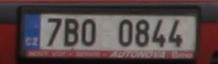0: (81, 18, 98, 46), (119, 19, 132, 47)
4: (152, 18, 166, 48), (170, 19, 185, 47)
7: (47, 16, 63, 47)
8: (136, 17, 150, 46)
B: (64, 17, 79, 48)
